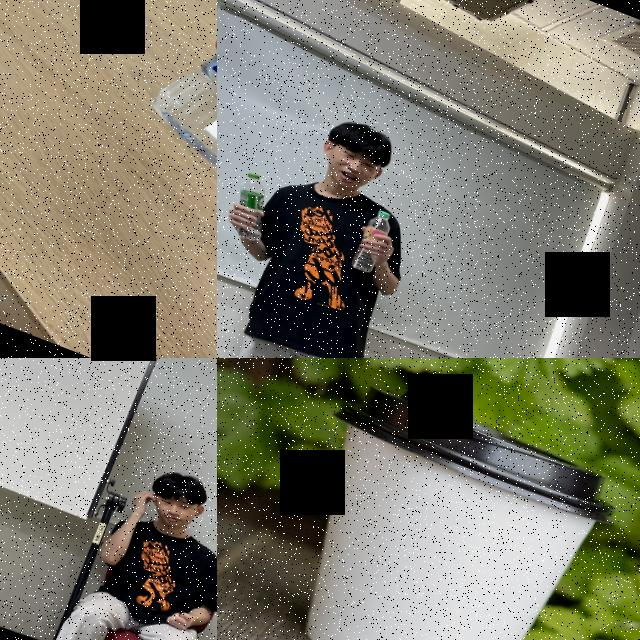bottle: (130, 0, 217, 238), (228, 173, 281, 244), (352, 205, 398, 275)
cup: (245, 368, 626, 640)
